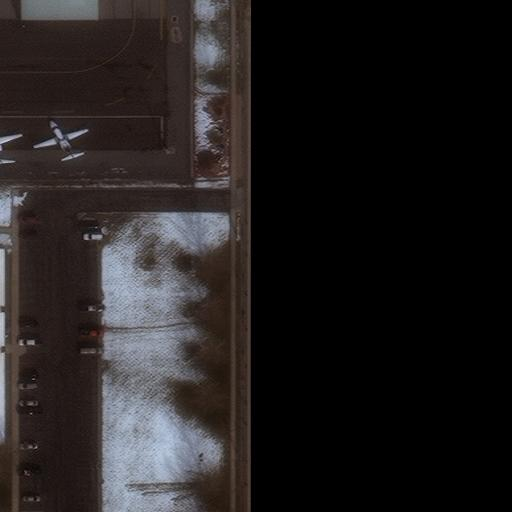Small Civil Transport: (33, 119, 87, 159), (0, 126, 21, 163)
